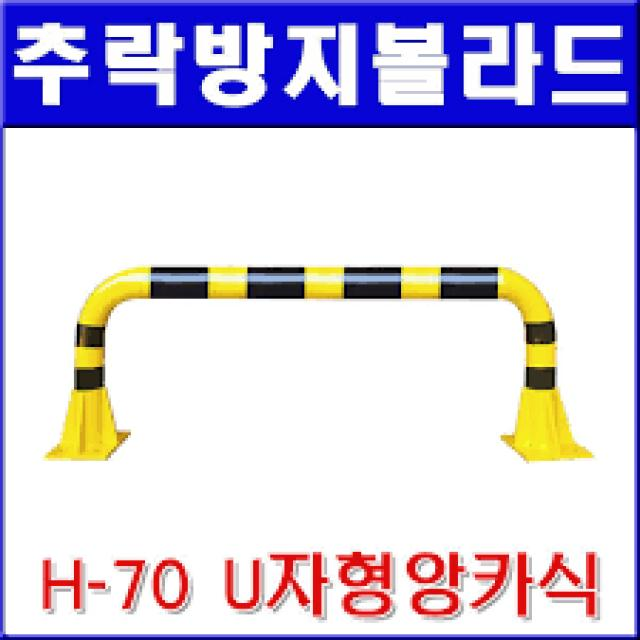bollard: (43, 250, 600, 495)
